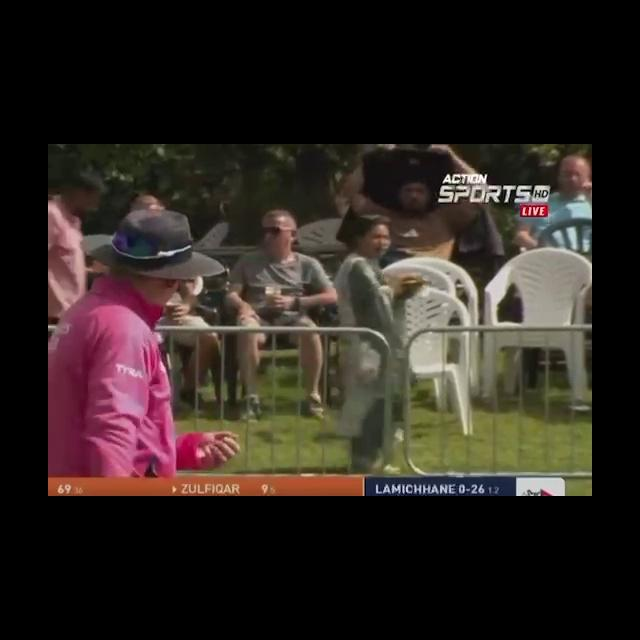umpire: (48, 164, 326, 474)
